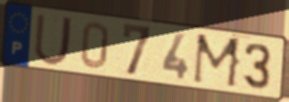0: (78, 20, 111, 72)
3: (241, 42, 274, 91)
4: (160, 31, 191, 82)
7: (121, 22, 153, 80)
M: (190, 32, 244, 91)
U: (32, 11, 75, 67)
